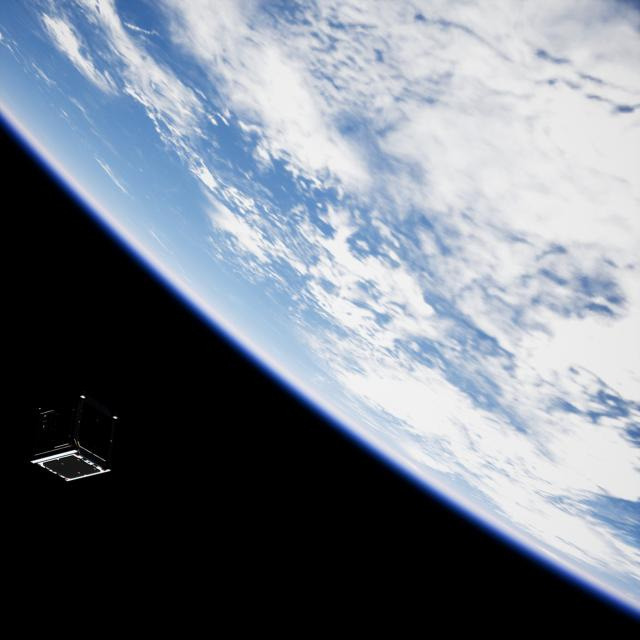medium_debris: (29, 383, 125, 487)
